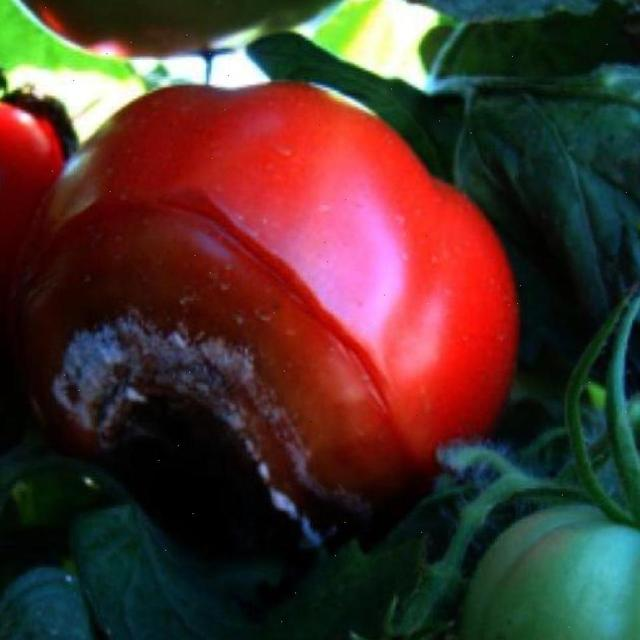Blossom End Rot Fruit: (49, 208, 255, 374)
